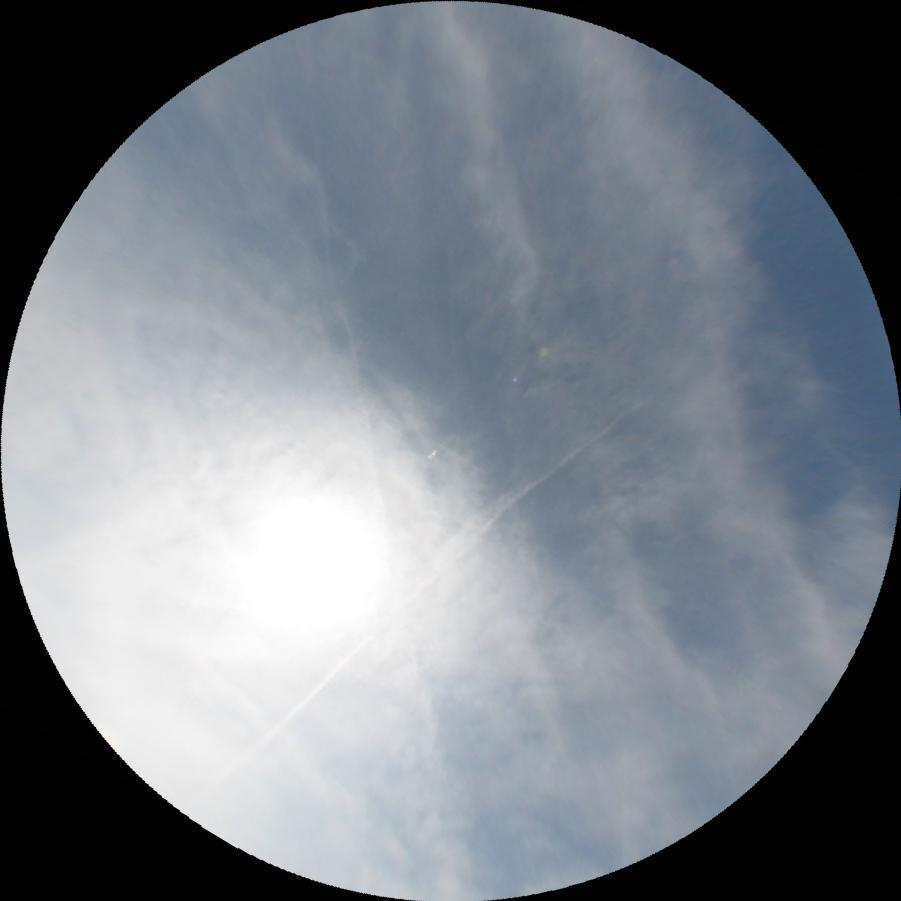contrail veryold: (209, 375, 650, 777), (258, 114, 478, 750)
sun: (227, 484, 390, 638)
